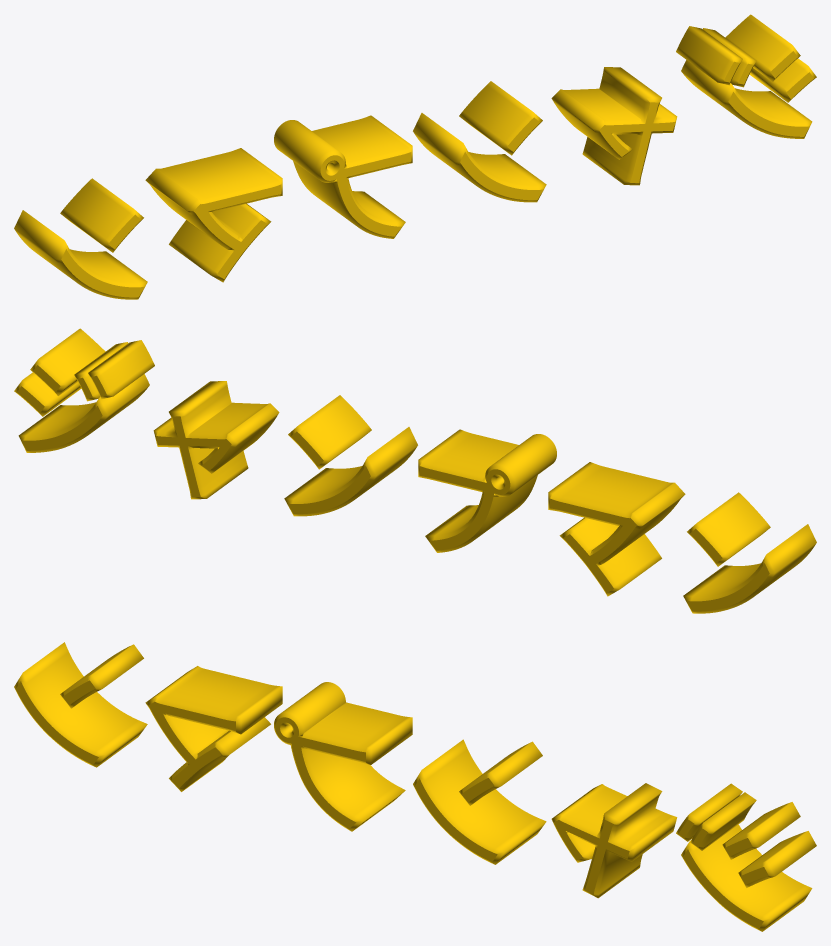
Rendered from Title.obj.
3 renders of one model, top to bottom at view 1: azimuth 30°, elevation 25°; view 2: azimuth 150°, elevation 25°; view 3: azimuth 330°, elevation 25°, orthographic.
Parts seen in each view (by area): view 1: オブジェクト; view 2: オブジェクト; view 3: オブジェクト.
Boxes of the visible parts, left/top/right/bottom form: オブジェクト: left=14, top=14, right=816, bottom=299; オブジェクト: left=14, top=328, right=816, bottom=613; オブジェクト: left=14, top=642, right=816, bottom=931.
Size of the model in its own units: 50.1 by 6.92 by 5.18.
Materials: 1 (1 with a texture image).
